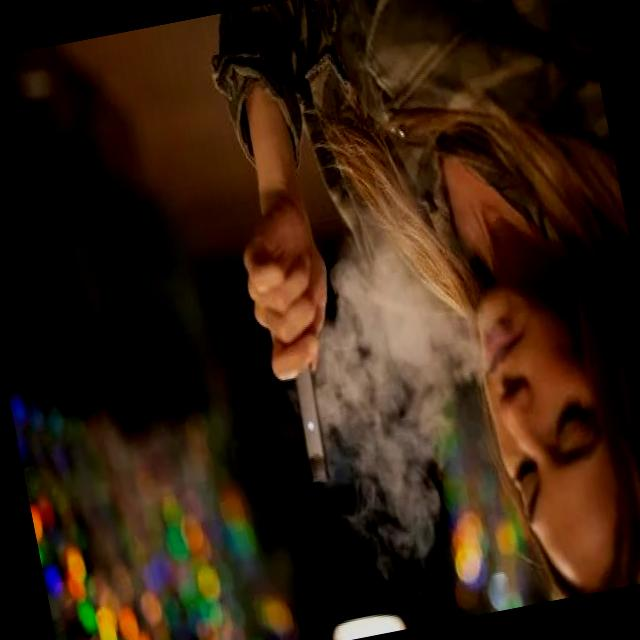cigarette: (286, 348, 336, 494)
